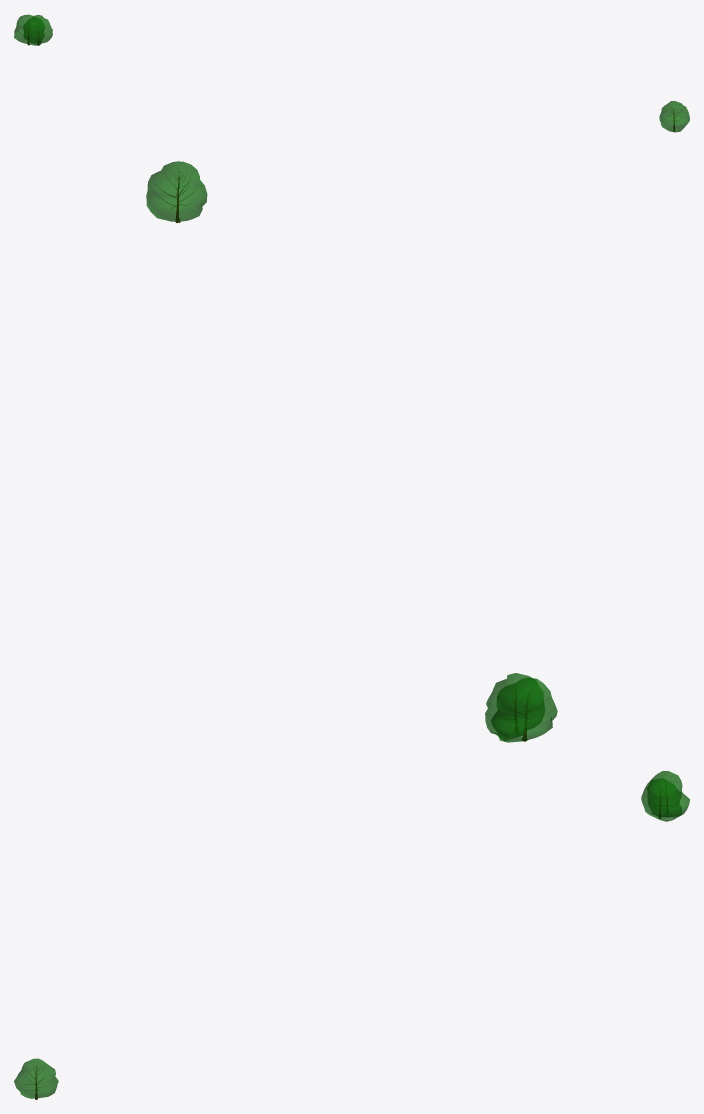
3 renders of one model, top to bottom at view 1: azimuth 30°, elevation 25°; view 2: azimuth 150°, elevation 25°; view 3: azimuth 270°, elevation 25°, orthographic. The views are drawn at different scales.
Parts seen in each view (by area): view 1: Foliage03, Foliage02, Foliage04; view 2: Foliage03, Foliage04, Foliage02; view 3: Foliage03, Foliage04, Foliage02.
Boxes of the visible parts, bbox=[...] form: Foliage03: bbox=[14, 14, 44, 45]; Foliage02: bbox=[659, 101, 689, 132]; Foliage04: bbox=[23, 14, 52, 45]; Foliage03: bbox=[491, 677, 557, 742]; Foliage04: bbox=[485, 673, 544, 740]; Foliage02: bbox=[146, 161, 207, 222]; Foliage03: bbox=[647, 771, 689, 816]; Foliage04: bbox=[641, 778, 681, 821]; Foliage02: bbox=[14, 1058, 58, 1099].
Size of the model in its own units: 6890 by 6909 by 642.
